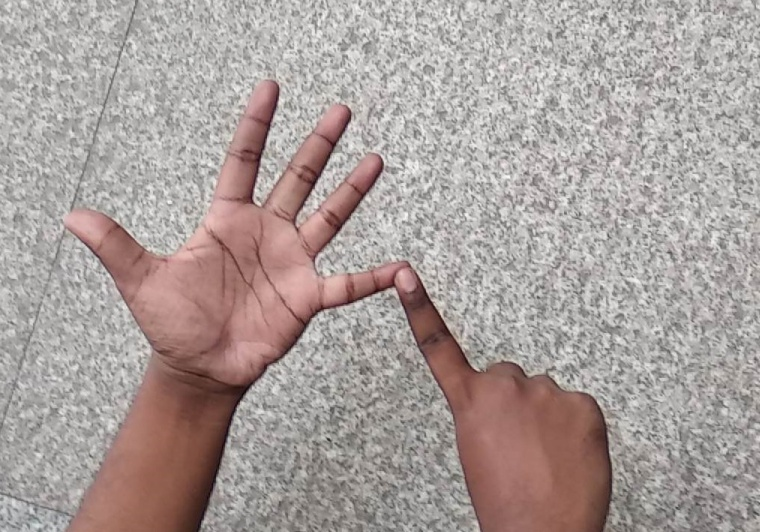i: (60, 78, 500, 396)
